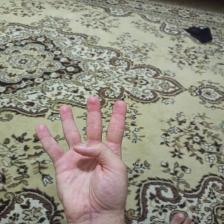four: (32, 96, 142, 220)
